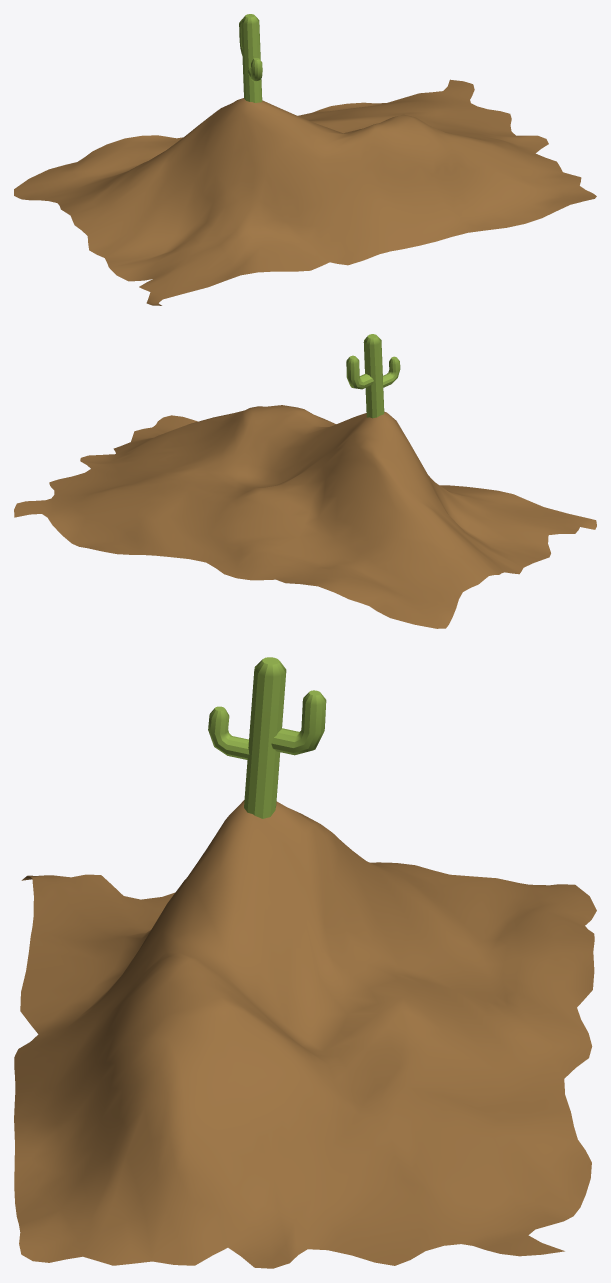
File: midground1.fbx
The picture shows the model from 3 angles, top to bottom: view 1: azimuth 30°, elevation 25°; view 2: azimuth 150°, elevation 25°; view 3: azimuth 270°, elevation 25°; orthographic projection. The views are drawn at different scales.
Parts seen in each view (by area): view 1: polySurface11; view 2: polySurface11; view 3: polySurface11.
Part boxes in pixels (<box>): polySurface11: <box>14,14,596,305</box>; polySurface11: <box>14,334,596,628</box>; polySurface11: <box>14,657,596,1268</box>.
Bounding box in the file's own units: 398 × 170 × 243.
